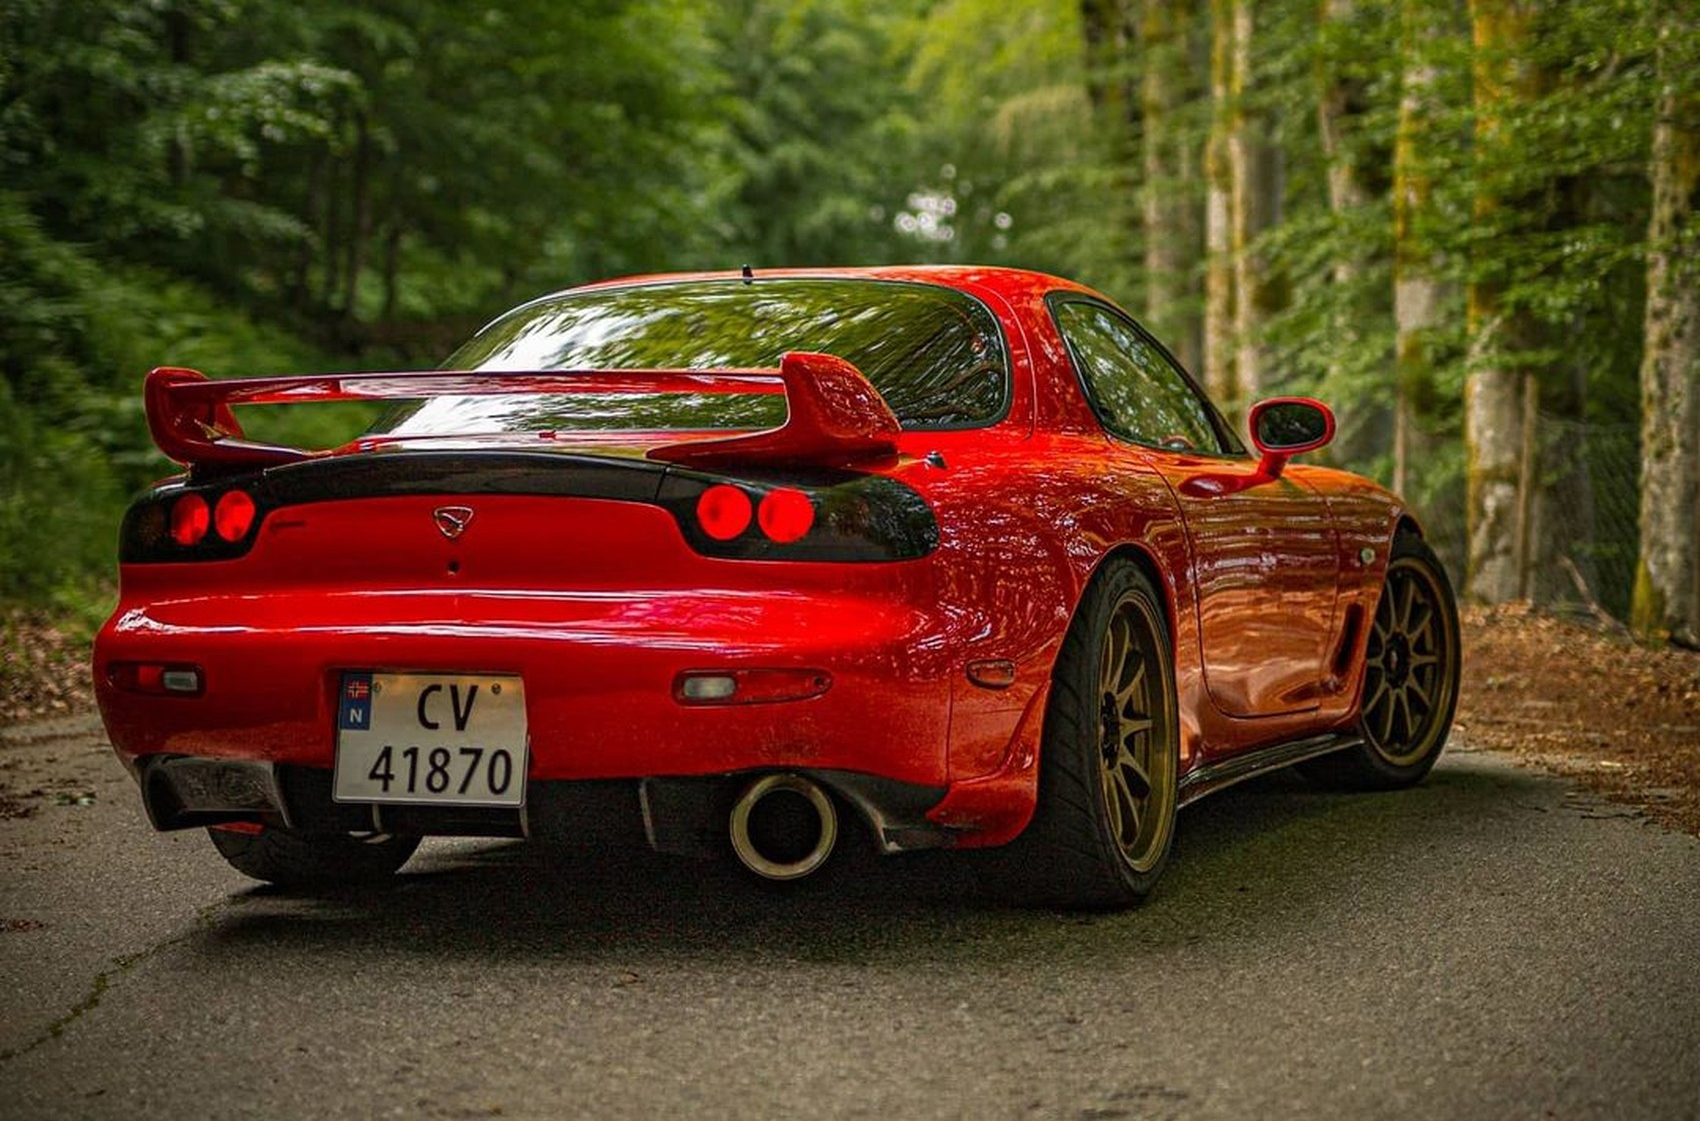plate: (329, 670, 533, 810)
